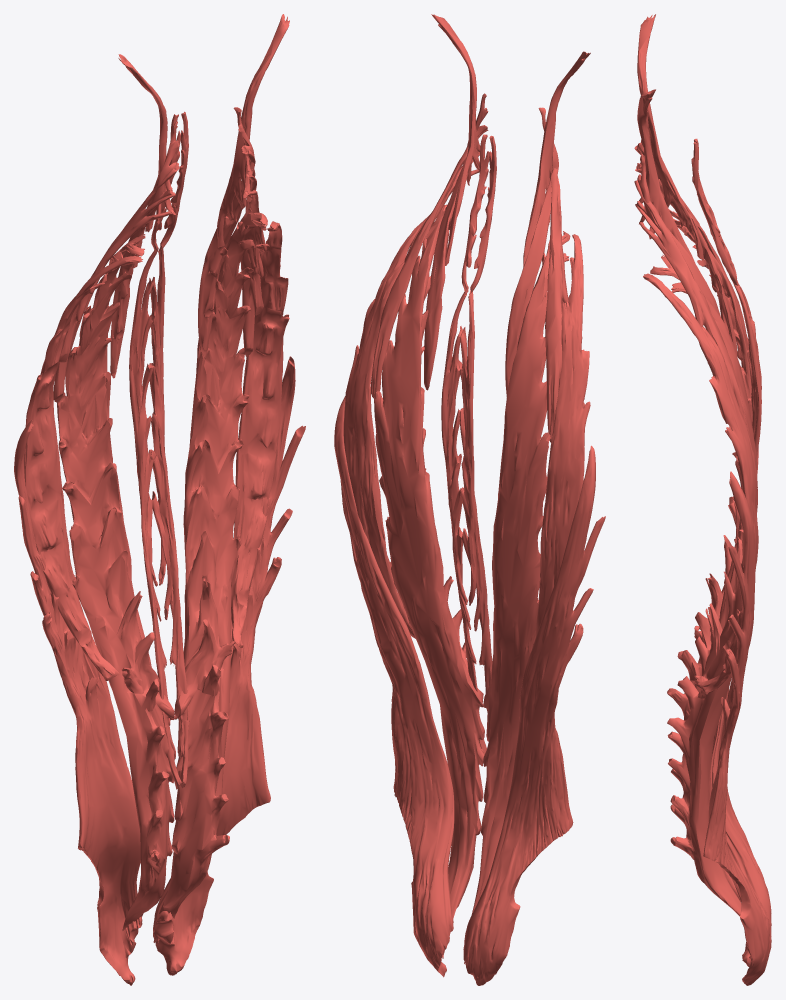
File: supplement-spine-trunk-muscle-erector-spinae.glb
The picture shows the model from 3 angles, left to right: view 1: azimuth 30°, elevation 25°; view 2: azimuth 150°, elevation 25°; view 3: azimuth 270°, elevation 25°; orthographic projection. The views are drawn at different scales.
Visible parts, largest first — view 1: spine-trunk:erector-spinae:isa:FJ1535M, spine-trunk:erector-spinae:isa:FJ1535, spine-trunk:erector-spinae:isa:FJ1527, spine-trunk:erector-spinae:isa:FJ1527M, spine-trunk:erector-spinae:isa:FJ1528M, spine-trunk:erector-spinae:isa:FJ1528, spine-trunk:erector-spinae:isa:FJ1544M, spine-trunk:erector-spinae:isa:FJ1544, spine-trunk:erector-spinae:isa:FJ1533M, spine-trunk:erector-spinae:isa:FJ1534M, spine-trunk:erector-spinae:isa:FJ1526, spine-trunk:erector-spinae:isa:FJ1526M (+3 smaller); view 2: spine-trunk:erector-spinae:isa:FJ1535M, spine-trunk:erector-spinae:isa:FJ1535, spine-trunk:erector-spinae:isa:FJ1527, spine-trunk:erector-spinae:isa:FJ1527M, spine-trunk:erector-spinae:isa:FJ1528, spine-trunk:erector-spinae:isa:FJ1528M, spine-trunk:erector-spinae:isa:FJ1544, spine-trunk:erector-spinae:isa:FJ1544M, spine-trunk:erector-spinae:isa:FJ1526, spine-trunk:erector-spinae:isa:FJ1526M, spine-trunk:erector-spinae:isa:FJ1534, spine-trunk:erector-spinae:isa:FJ1534M (+4 smaller); view 3: spine-trunk:erector-spinae:isa:FJ1535M, spine-trunk:erector-spinae:isa:FJ1527M, spine-trunk:erector-spinae:isa:FJ1528M, spine-trunk:erector-spinae:isa:FJ1535, spine-trunk:erector-spinae:isa:FJ1526M, spine-trunk:erector-spinae:isa:FJ1527, spine-trunk:erector-spinae:isa:FJ1533, spine-trunk:erector-spinae:isa:FJ1533M, spine-trunk:erector-spinae:isa:FJ1544M, spine-trunk:erector-spinae:isa:FJ1534, spine-trunk:erector-spinae:isa:FJ1534M, spine-trunk:erector-spinae:isa:FJ1543M (+3 smaller).
Boxes of the visible parts, x1,y1,x2,y2 form: spine-trunk:erector-spinae:isa:FJ1535M: (155,208,267,942); spine-trunk:erector-spinae:isa:FJ1535: (57,234,174,930); spine-trunk:erector-spinae:isa:FJ1527: (14,419,142,985); spine-trunk:erector-spinae:isa:FJ1527M: (153,356,305,975); spine-trunk:erector-spinae:isa:FJ1528M: (231,221,289,648); spine-trunk:erector-spinae:isa:FJ1528: (24,256,142,680); spine-trunk:erector-spinae:isa:FJ1544M: (149,245,189,788); spine-trunk:erector-spinae:isa:FJ1544: (129,247,181,789); spine-trunk:erector-spinae:isa:FJ1533M: (217,14,289,247); spine-trunk:erector-spinae:isa:FJ1534M: (198,107,254,356); spine-trunk:erector-spinae:isa:FJ1526: (53,167,179,402); spine-trunk:erector-spinae:isa:FJ1526M: (240,150,266,356); spine-trunk:erector-spinae:isa:FJ1535M: (374,204,484,935); spine-trunk:erector-spinae:isa:FJ1535: (471,231,570,914); spine-trunk:erector-spinae:isa:FJ1527: (463,445,605,985); spine-trunk:erector-spinae:isa:FJ1527M: (334,396,454,977); spine-trunk:erector-spinae:isa:FJ1528: (535,234,590,637); spine-trunk:erector-spinae:isa:FJ1528M: (343,204,446,638); spine-trunk:erector-spinae:isa:FJ1544: (459,290,492,704); spine-trunk:erector-spinae:isa:FJ1544M: (441,286,486,754); spine-trunk:erector-spinae:isa:FJ1526: (545,150,568,442); spine-trunk:erector-spinae:isa:FJ1526M: (371,129,488,399); spine-trunk:erector-spinae:isa:FJ1534: (505,107,558,397); spine-trunk:erector-spinae:isa:FJ1534M: (424,93,488,390); spine-trunk:erector-spinae:isa:FJ1535M: (650,255,757,916); spine-trunk:erector-spinae:isa:FJ1527M: (703,471,771,985); spine-trunk:erector-spinae:isa:FJ1528M: (643,273,758,694); spine-trunk:erector-spinae:isa:FJ1535: (667,209,751,901); spine-trunk:erector-spinae:isa:FJ1526M: (634,180,747,427); spine-trunk:erector-spinae:isa:FJ1527: (710,366,771,966); spine-trunk:erector-spinae:isa:FJ1533: (637,14,703,260); spine-trunk:erector-spinae:isa:FJ1533M: (637,89,695,263); spine-trunk:erector-spinae:isa:FJ1544M: (720,283,761,629); spine-trunk:erector-spinae:isa:FJ1534: (636,111,737,356); spine-trunk:erector-spinae:isa:FJ1534M: (636,151,720,317); spine-trunk:erector-spinae:isa:FJ1543M: (691,142,738,285).
Size of the model in its own units: 0.2046 by 0.6698 by 0.09.
